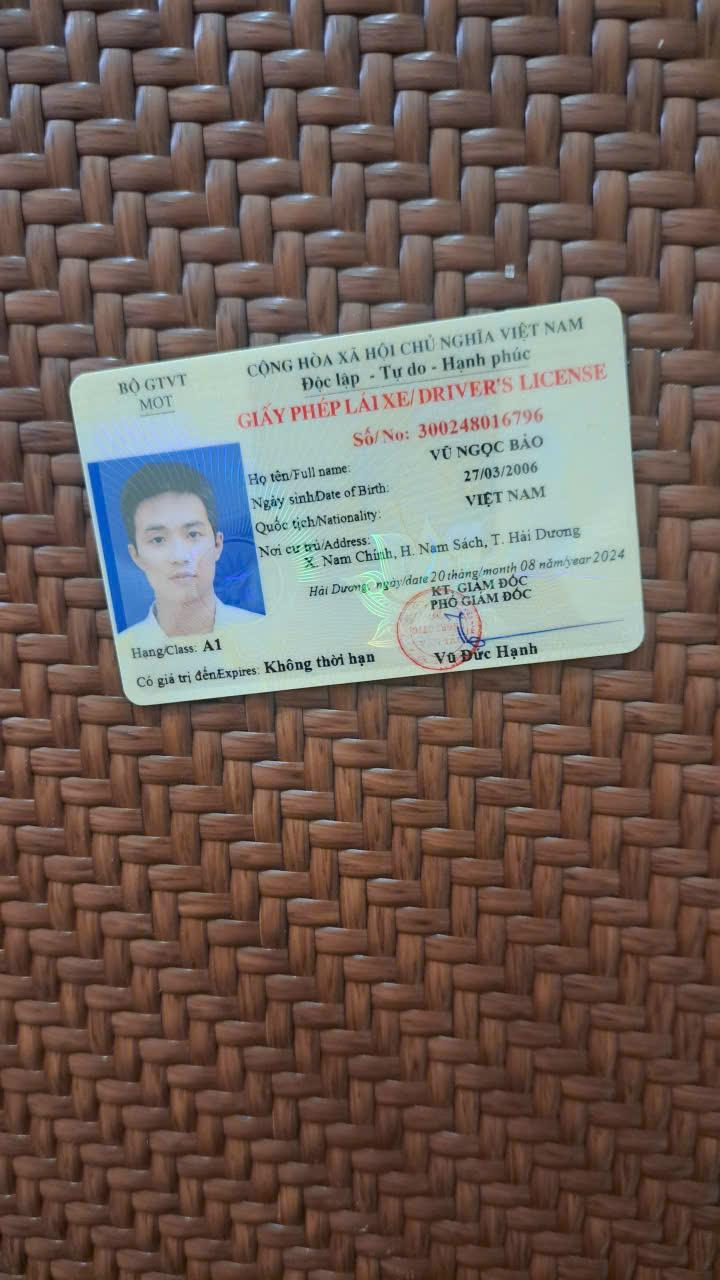gplx: (64, 295, 650, 714)
